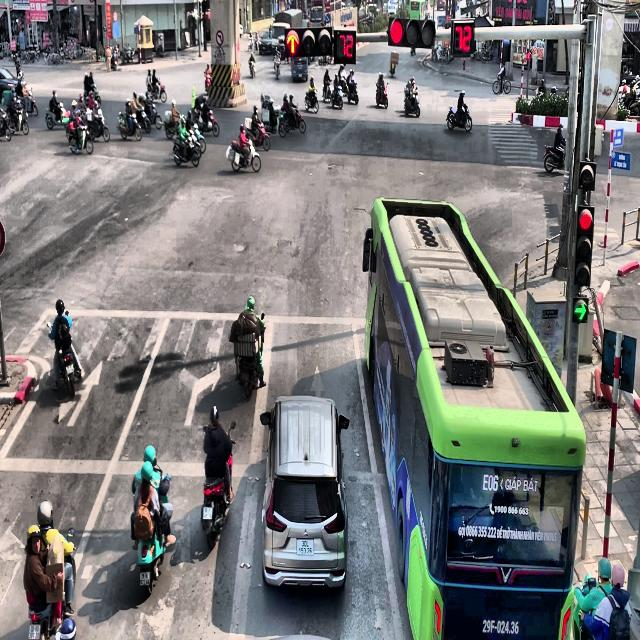BUS: (362, 197, 586, 639)
CAR: (260, 395, 349, 590)
MOTORBIKE: (28, 528, 76, 640), (131, 468, 173, 596), (200, 421, 236, 550), (47, 320, 82, 398), (234, 312, 265, 399), (226, 138, 261, 173), (172, 133, 201, 167), (278, 104, 306, 137), (67, 120, 93, 155), (244, 118, 270, 150), (84, 110, 110, 142), (193, 106, 219, 137), (117, 110, 142, 141), (446, 104, 472, 132), (44, 101, 68, 130), (544, 141, 566, 172), (8, 103, 29, 135), (142, 97, 162, 130), (404, 86, 420, 117), (146, 80, 167, 103), (492, 72, 511, 94), (0, 107, 12, 141), (24, 87, 38, 116), (304, 88, 318, 113), (376, 82, 388, 108), (346, 80, 359, 104), (331, 84, 343, 109), (322, 80, 332, 102), (273, 54, 281, 78), (248, 58, 256, 78), (204, 72, 211, 92)
TRAFFIC_LIGHT: (574, 204, 594, 287), (387, 16, 436, 48), (334, 29, 356, 63), (452, 20, 473, 55), (285, 29, 300, 56)
